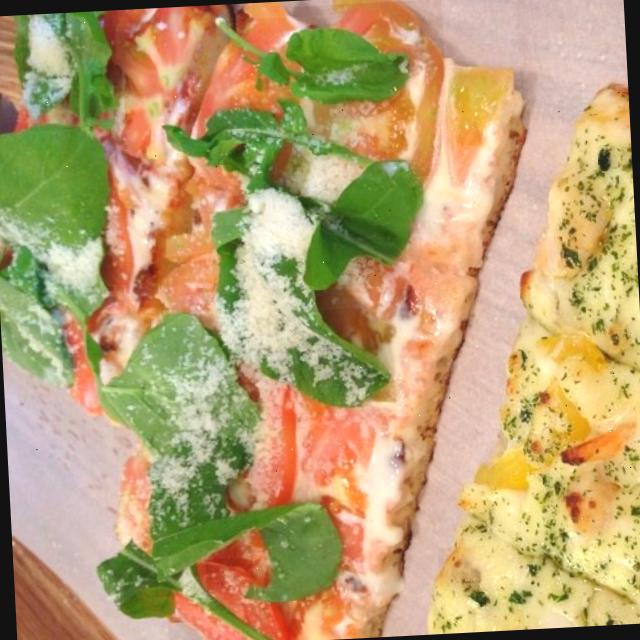basil: (107, 322, 254, 485), (208, 192, 316, 395), (0, 118, 110, 317), (166, 100, 374, 186), (226, 12, 410, 108), (136, 479, 332, 563), (304, 160, 420, 288), (272, 307, 381, 416), (20, 11, 111, 131), (0, 248, 68, 376), (98, 544, 208, 620), (250, 534, 344, 602), (541, 522, 572, 566), (597, 144, 614, 174), (510, 584, 529, 610), (560, 247, 580, 264), (539, 490, 553, 503), (630, 504, 640, 516), (552, 481, 560, 494), (542, 474, 548, 484)
cheese: (483, 453, 640, 631), (551, 112, 640, 335), (518, 311, 640, 461), (438, 544, 524, 634)
pizza: (0, 0, 522, 640), (429, 86, 640, 632)
tomato: (291, 0, 449, 183), (94, 8, 178, 285), (173, 1, 294, 182), (163, 553, 289, 640), (241, 378, 305, 518), (156, 218, 218, 315)
